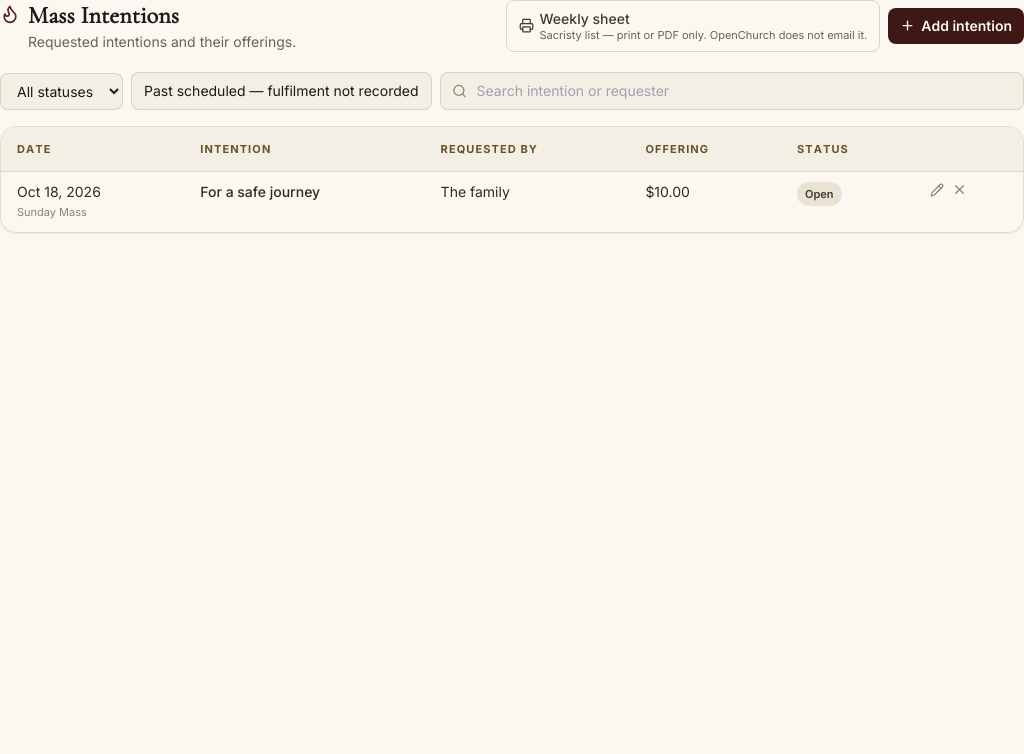
Test: SP-063 fulfilment confirmation › 500 shows the inline error and no success toast
The width and height of the screenshot is (1024, 754).
Click the button named "Edit intention" at (937, 190), box [930,182,944,196]
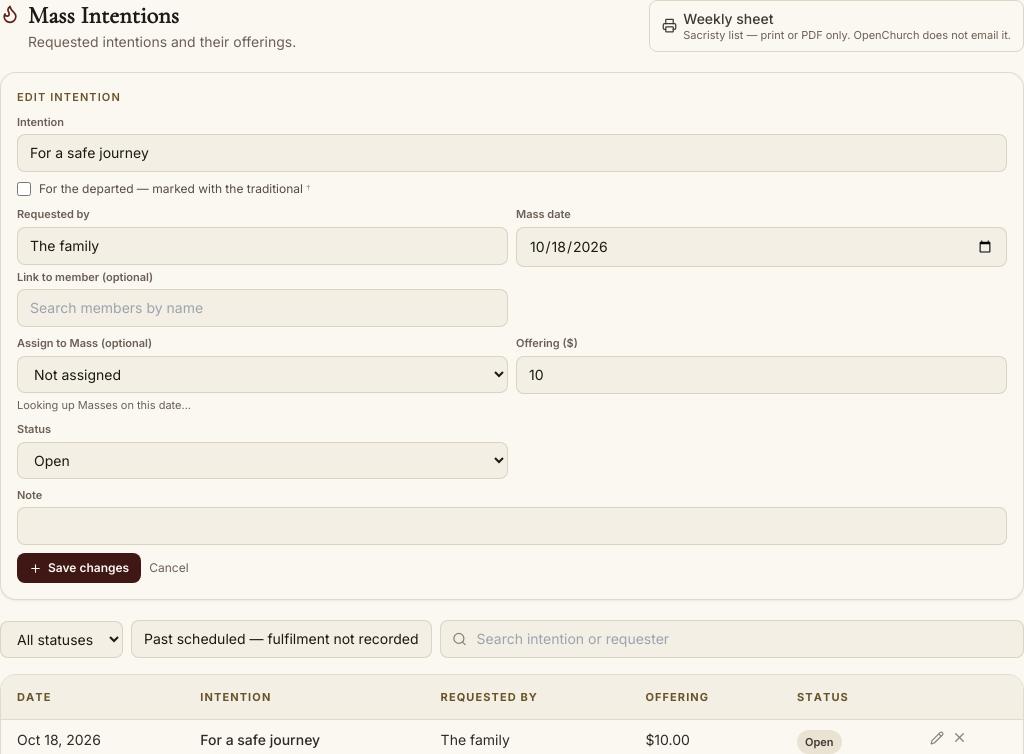
Select "Fulfilled" in the dropdown labelled "Status" at (262, 460), box [17,442,508,478]
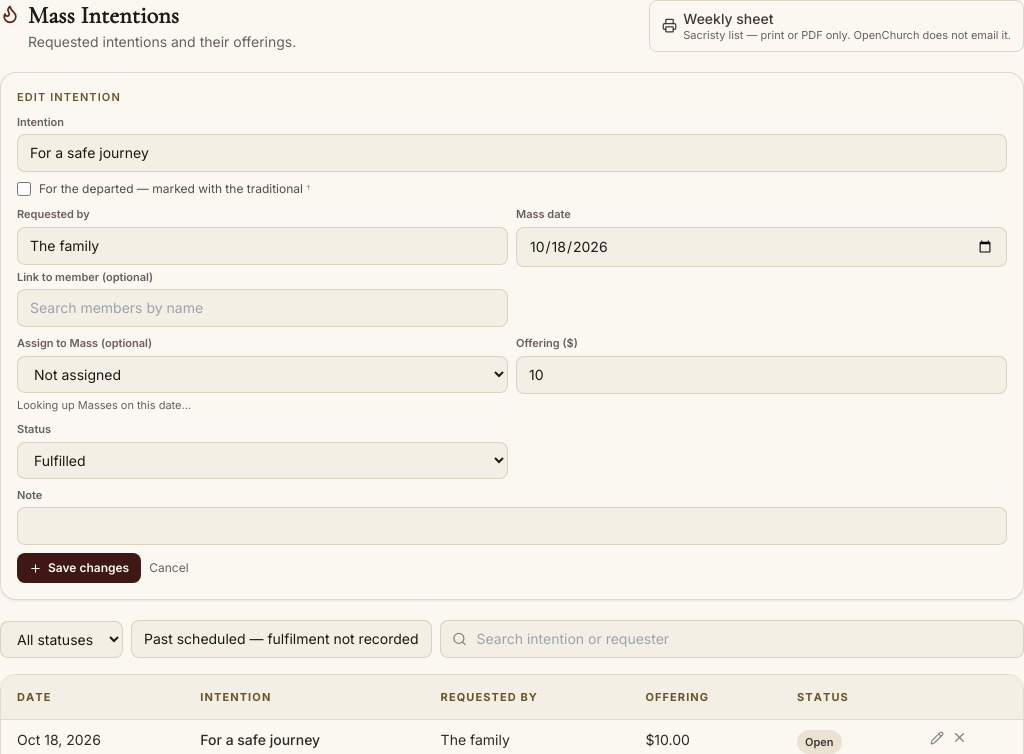
Click the button "Save changes" at (79, 568), box [17,553,141,583]
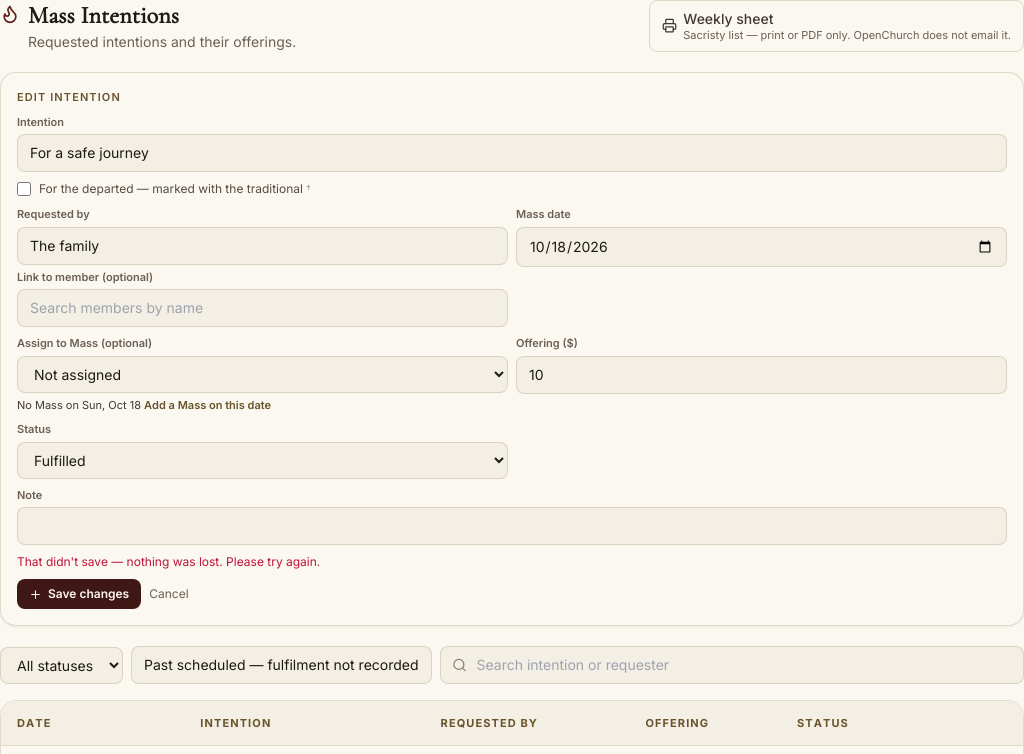
Expected: the message "That didn't save — nothing was lost. Please try again." is shown, [17,554,320,569]
